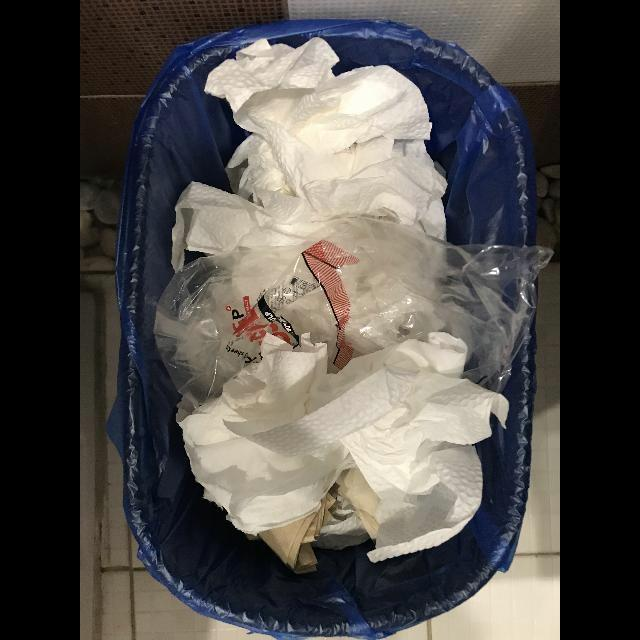paper: (179, 332, 509, 563), (171, 37, 448, 274), (259, 493, 336, 574)
plastic_bag: (155, 217, 555, 407)
